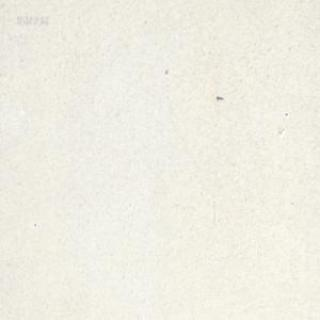Nailtrack_idkeyframe: (215, 95, 222, 100)
